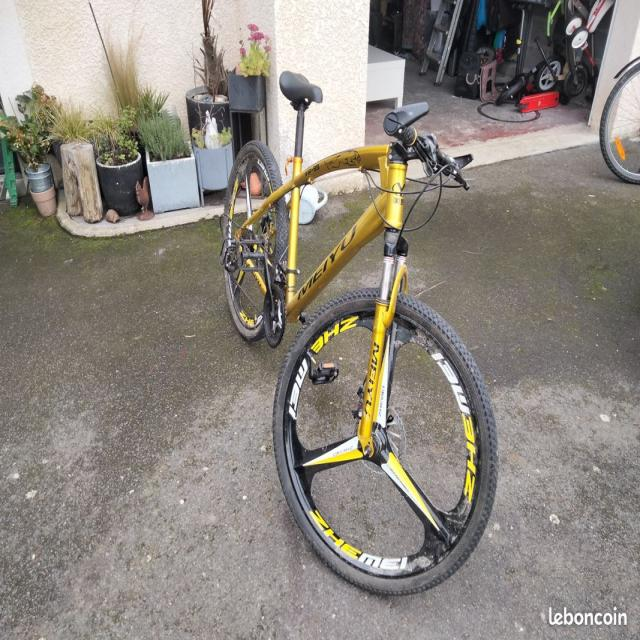Bike: (221, 71, 497, 594)
